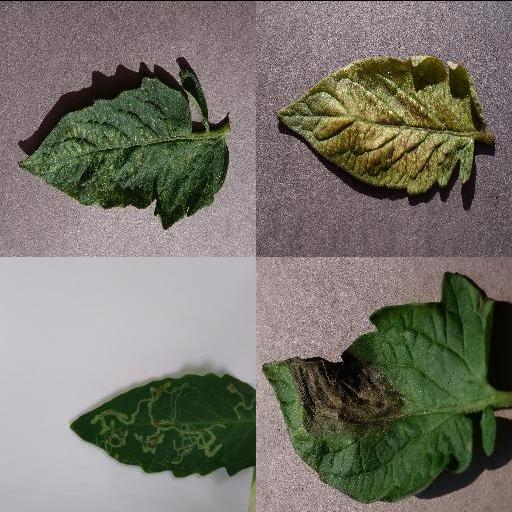Late Blight: (261, 268, 495, 502)
Leaf Miner: (69, 370, 253, 478)
Spider Mites: (18, 75, 230, 229), (275, 52, 473, 194)
